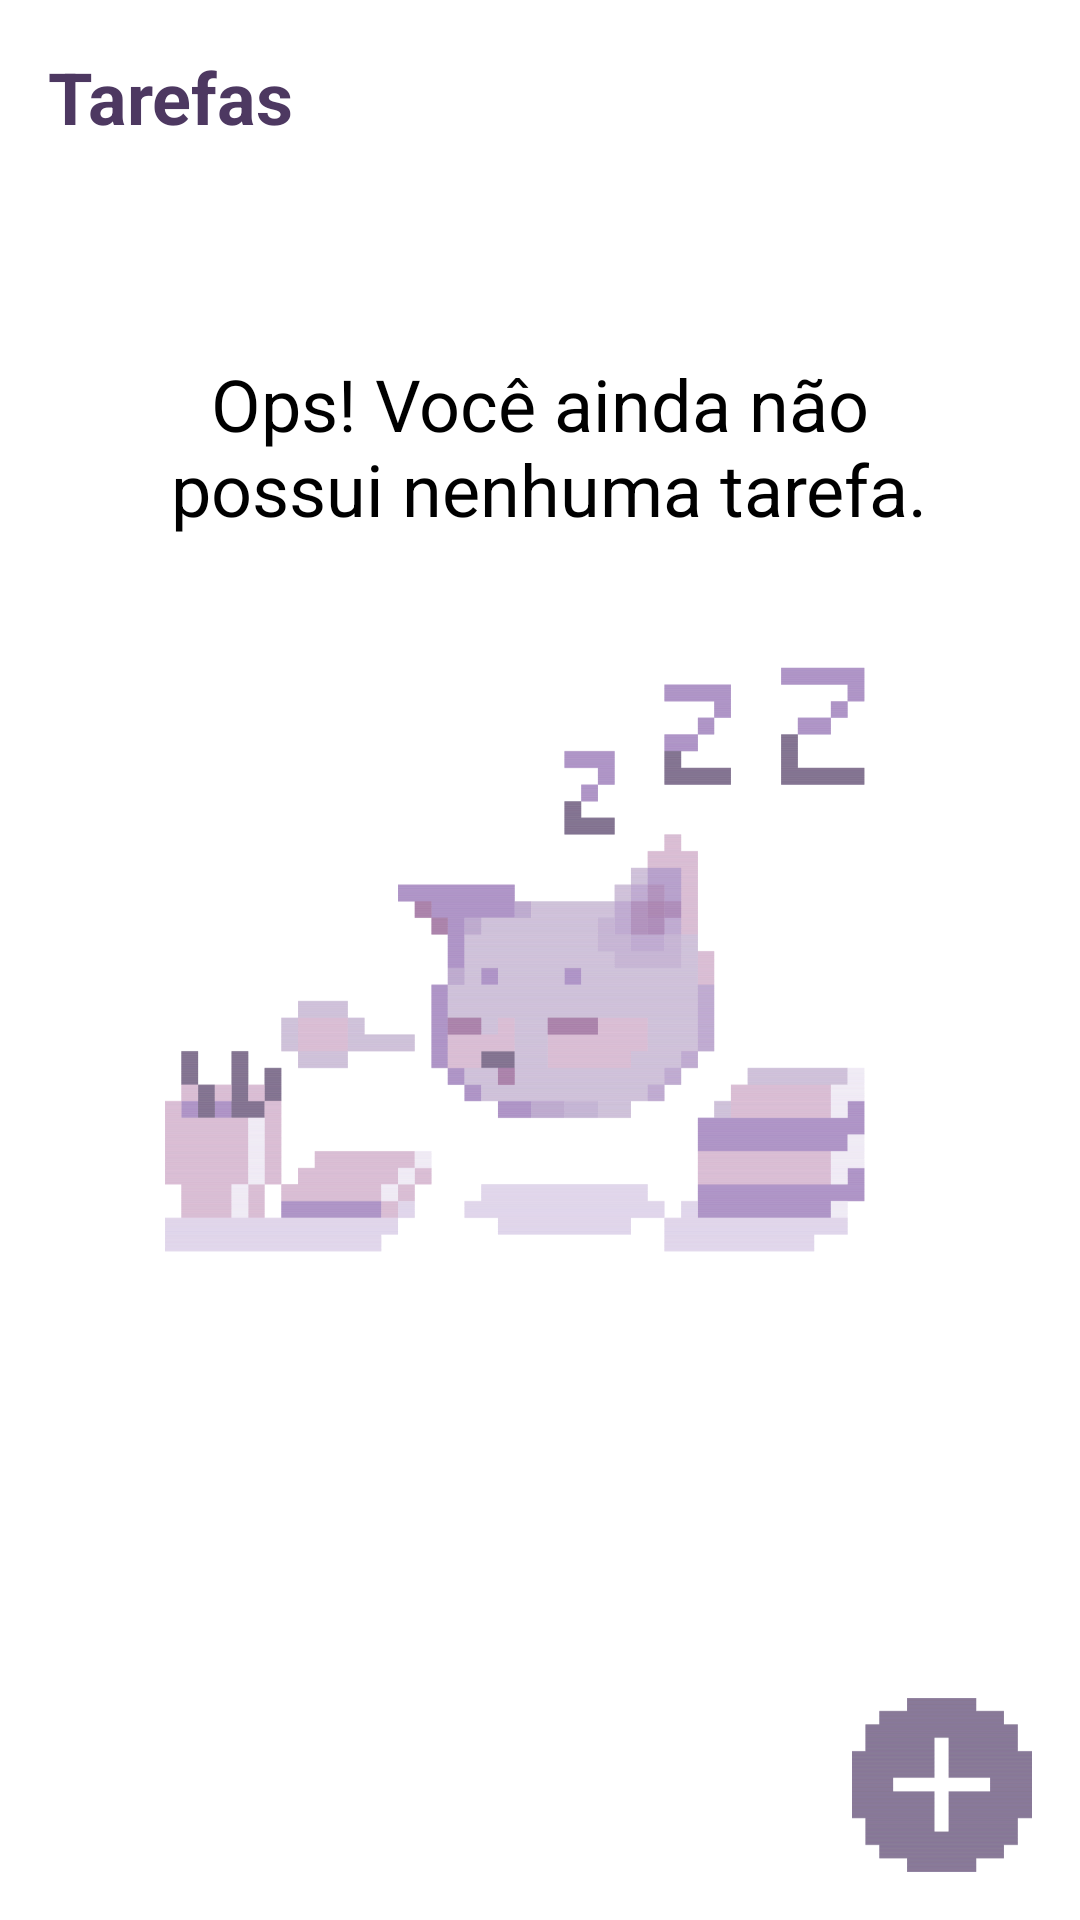

Named icons in this screenshot (1080 x 1920) and their bounding boxes, bbox(x1, y1, x2, y2):
Nova tarefa: bbox(852, 1698, 1032, 1872)
